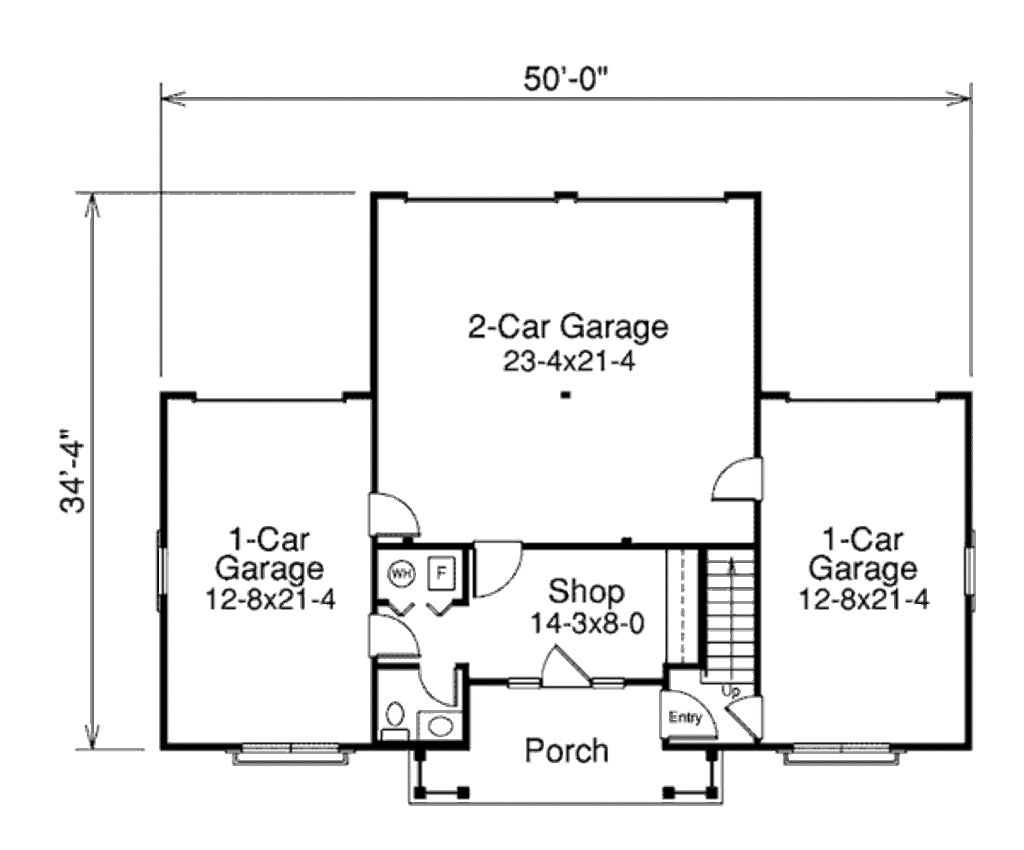door: (354, 608, 422, 664), (362, 485, 429, 538), (474, 537, 532, 598), (713, 457, 768, 512), (413, 657, 462, 708), (539, 643, 587, 689)
large_sink: (381, 691, 415, 739)
small_sink: (416, 695, 467, 742)
stairs: (697, 543, 761, 692)
window: (950, 522, 987, 611), (228, 740, 353, 766), (785, 743, 898, 760), (153, 538, 175, 605)
